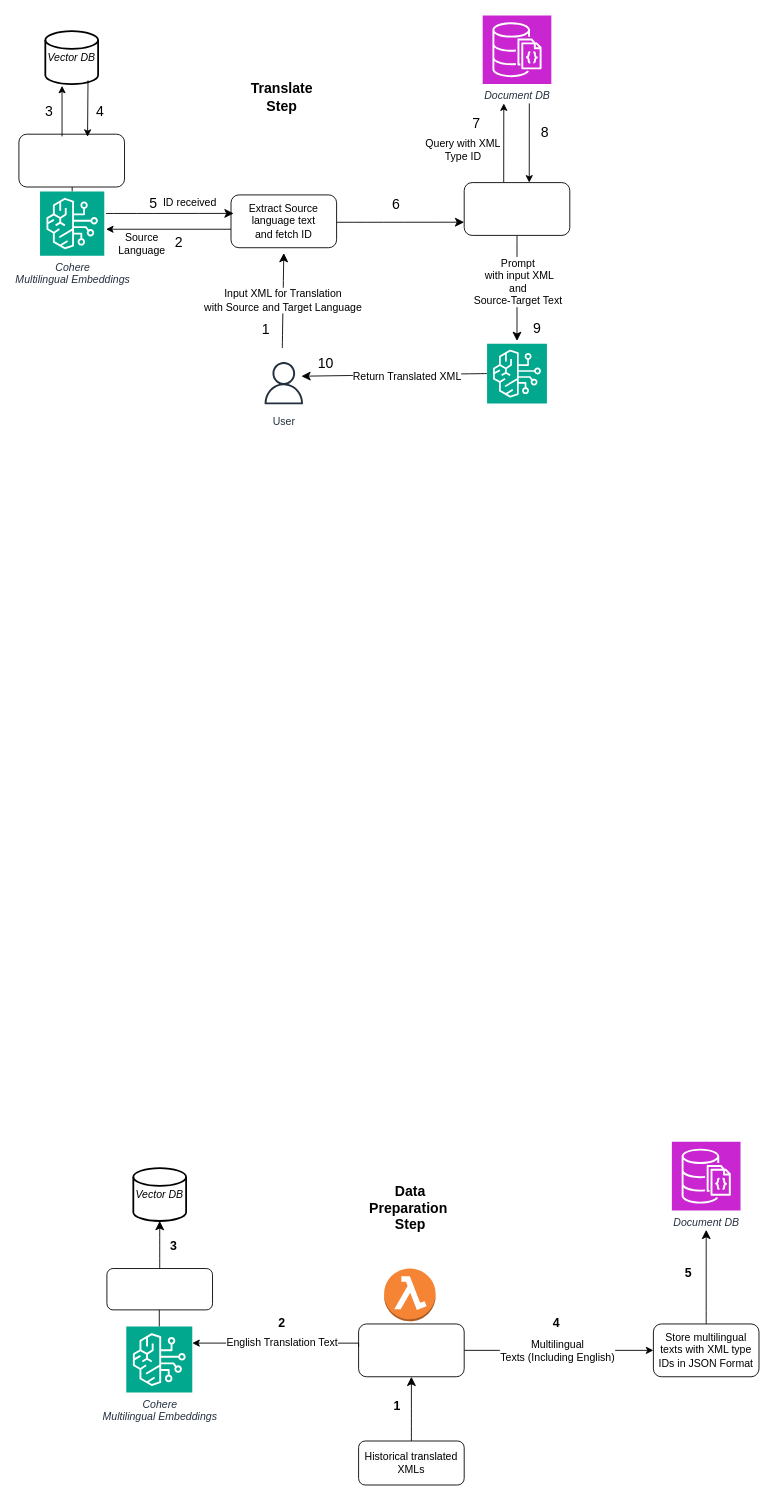
Some shapes in this 774 by 1500 pixel diagram are drawn without their labels. Each missing label, with the centre of its shape:
"Extract Translation Text (JSON)" goes at point 411,1350.
"Fetch Source and Target Text" goes at point 516,208.
"LLM (Jurrasic/Titan/Claude 3)" goes at point 516,373.
"Query Similar XML type ID" goes at point 71,160.
"Store with XML type ID" goes at point 159,1289.
